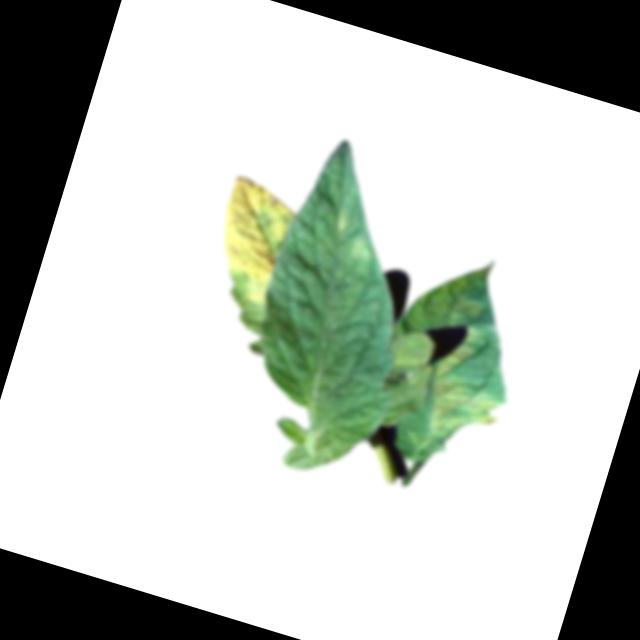Leaf_Mold: (369, 256, 541, 458), (197, 173, 304, 312), (325, 208, 386, 266)
